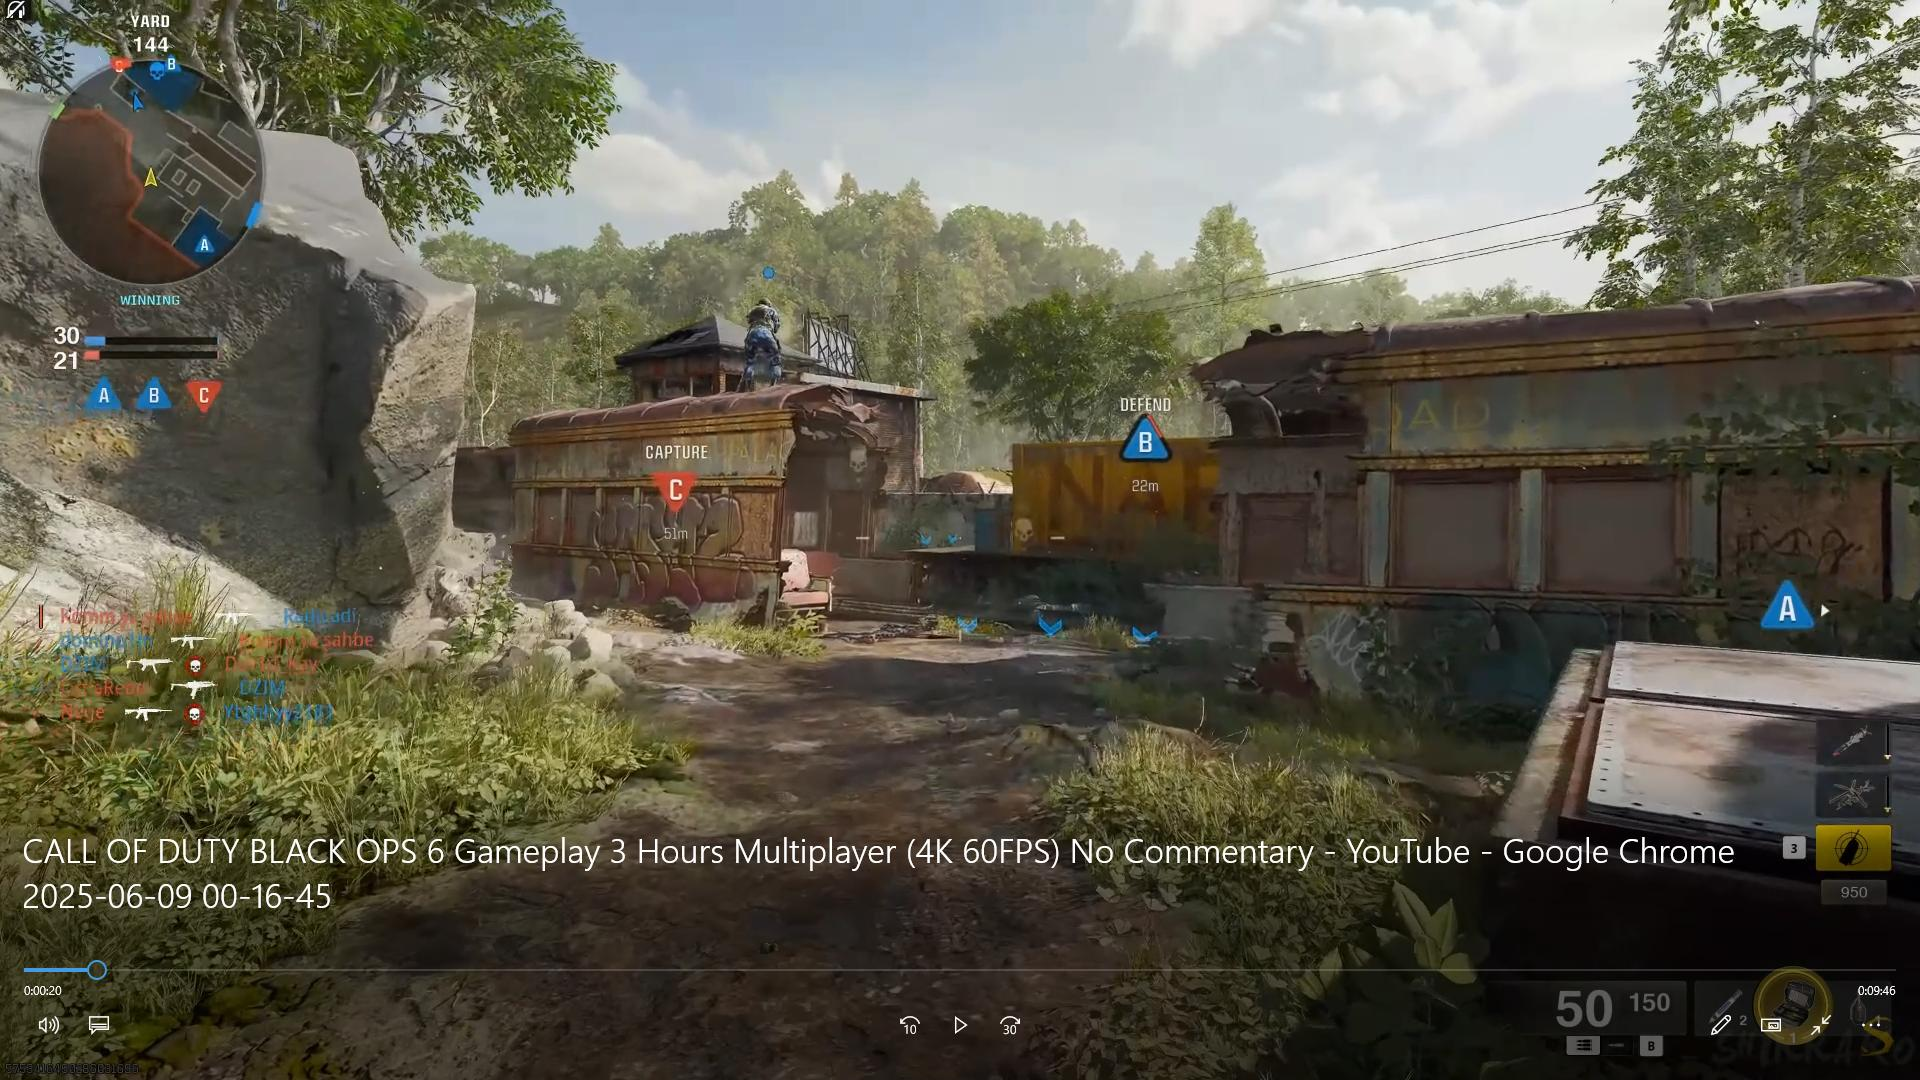Enemy: (740, 290, 785, 389)
